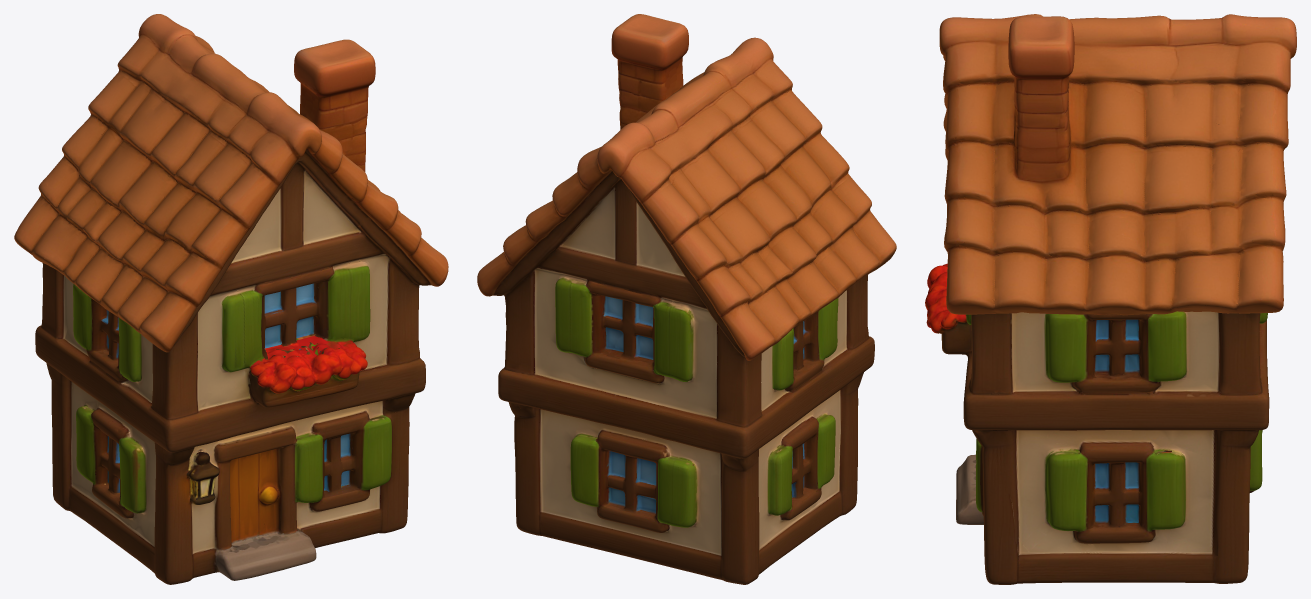
The model's file is ck_house_a.glb.
3 renders of one model, left to right at view 1: azimuth 30°, elevation 25°; view 2: azimuth 150°, elevation 25°; view 3: azimuth 270°, elevation 25°, orthographic. The views are drawn at different scales.
Visible parts, largest first — view 1: ck_house_a; view 2: ck_house_a; view 3: ck_house_a.
Part boxes in pixels (box(x1,y1,x2,y2)): ck_house_a: box(14, 14, 448, 584); ck_house_a: box(477, 14, 896, 584); ck_house_a: box(925, 14, 1296, 584).
Size of the model in its own units: 1.32 by 1.97 by 1.25.
1 material, 1 textured.
